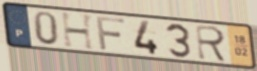0: (31, 10, 61, 46)
3: (163, 22, 193, 60)
4: (133, 19, 160, 56)
F: (95, 15, 127, 51)
H: (59, 12, 97, 52)
R: (194, 23, 230, 64)
